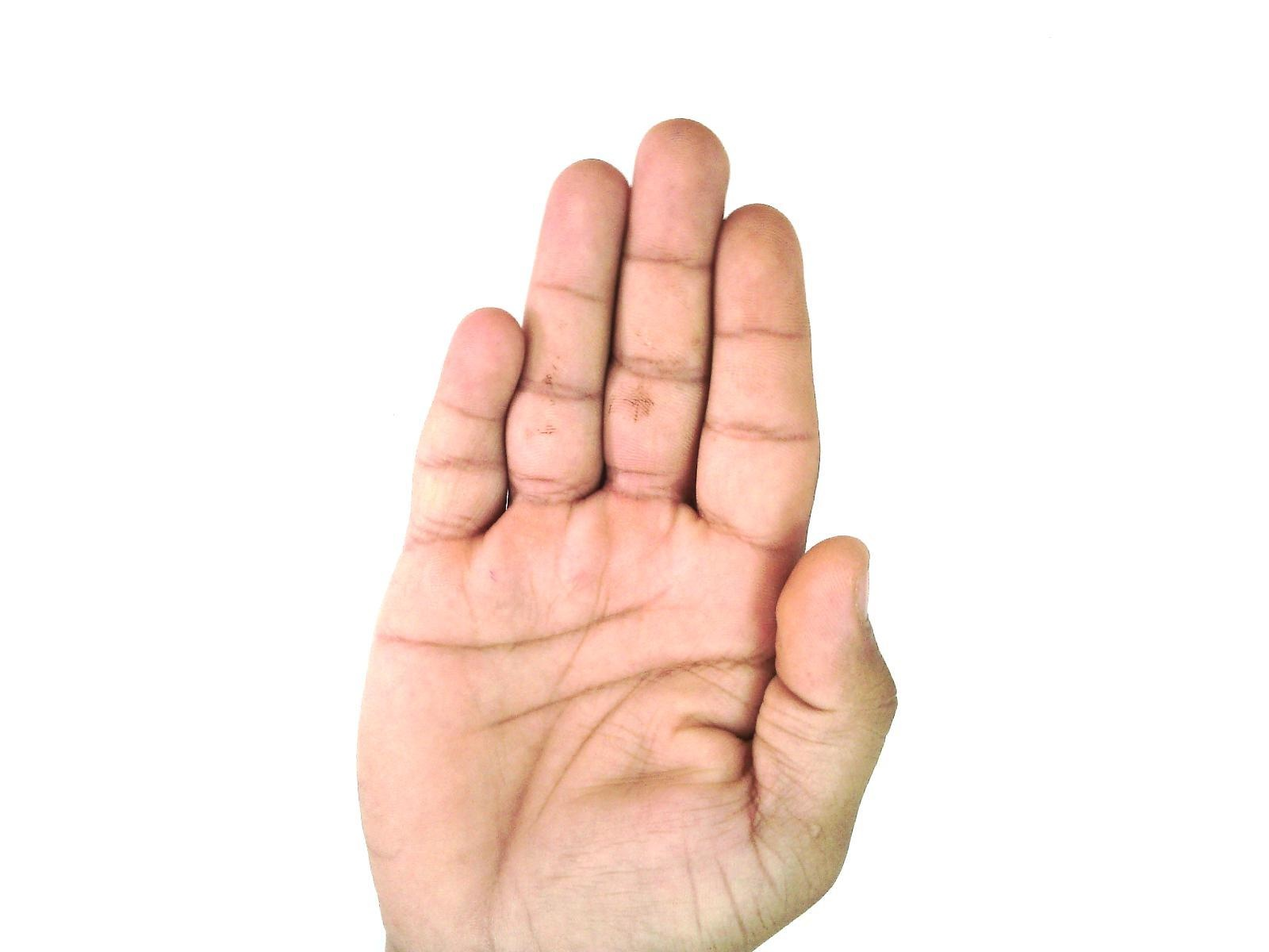open_palm: (353, 117, 901, 951)
